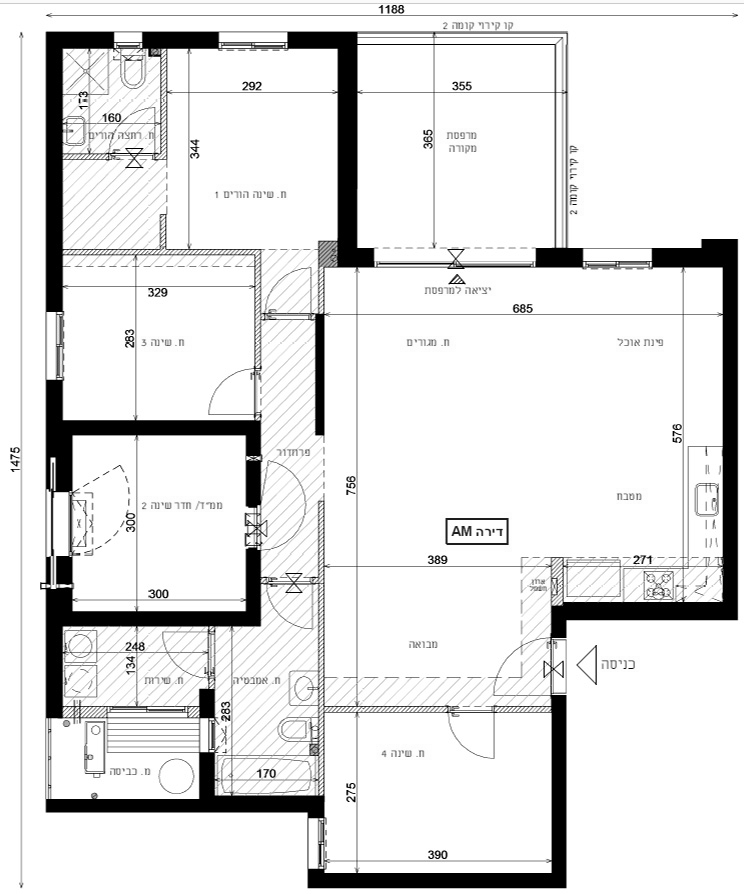wall: (44, 31, 64, 313), (338, 30, 357, 266), (50, 420, 259, 437), (567, 602, 738, 618), (552, 696, 564, 886)
window: (45, 311, 65, 382), (220, 31, 288, 51), (585, 246, 653, 266), (305, 816, 326, 866), (194, 716, 215, 753), (112, 32, 142, 48)
